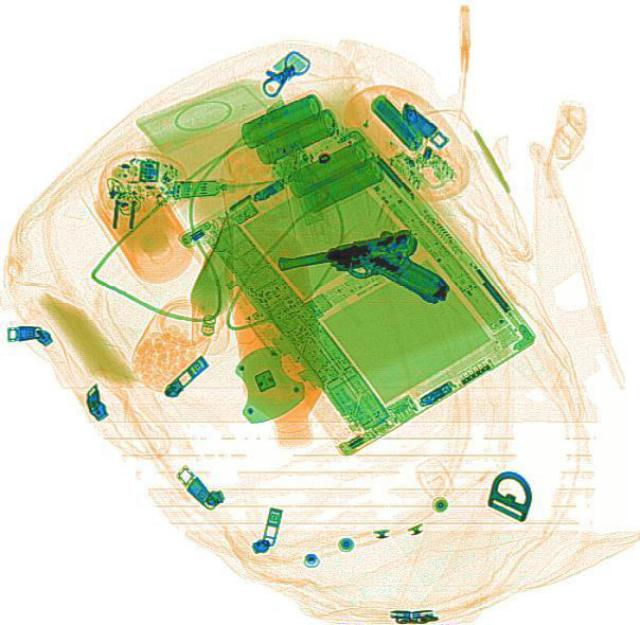Gun: (273, 221, 449, 328)
